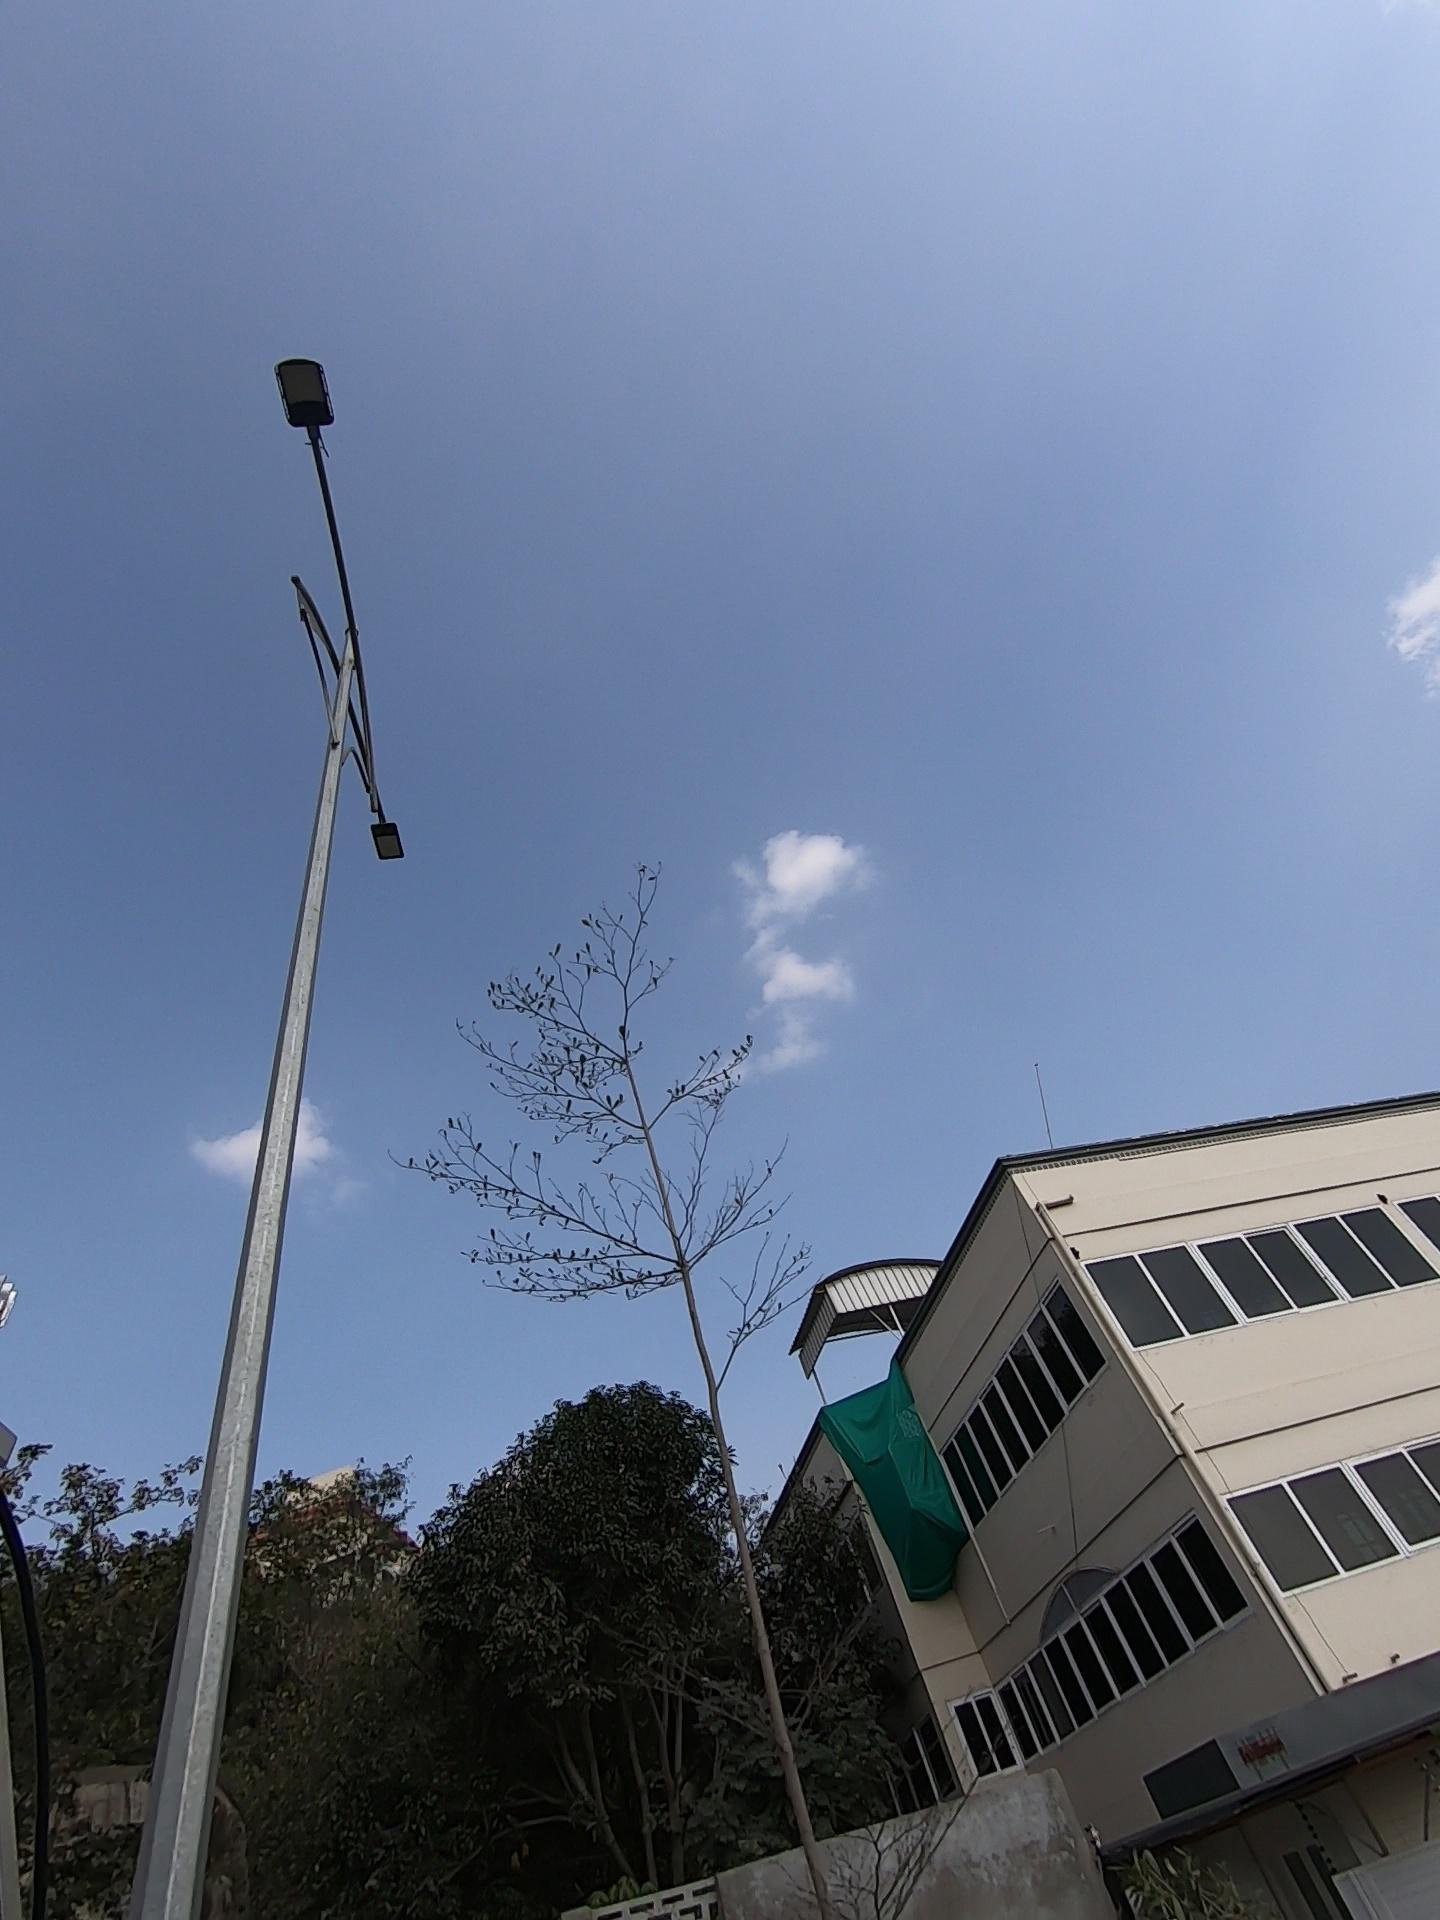off: (219, 262, 543, 895)
